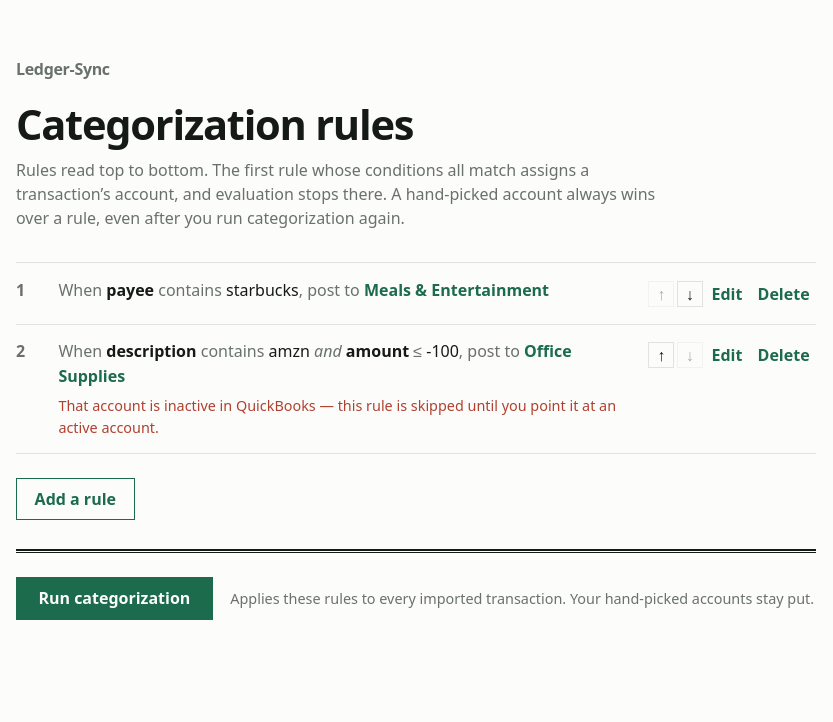
it: running categorization shows the reconciliation summary
expect the list is shown: met, box [16, 262, 816, 454]
Step 1. Click the button "Run categorization" → [114, 598], box [16, 577, 213, 620]
(page scrolled)
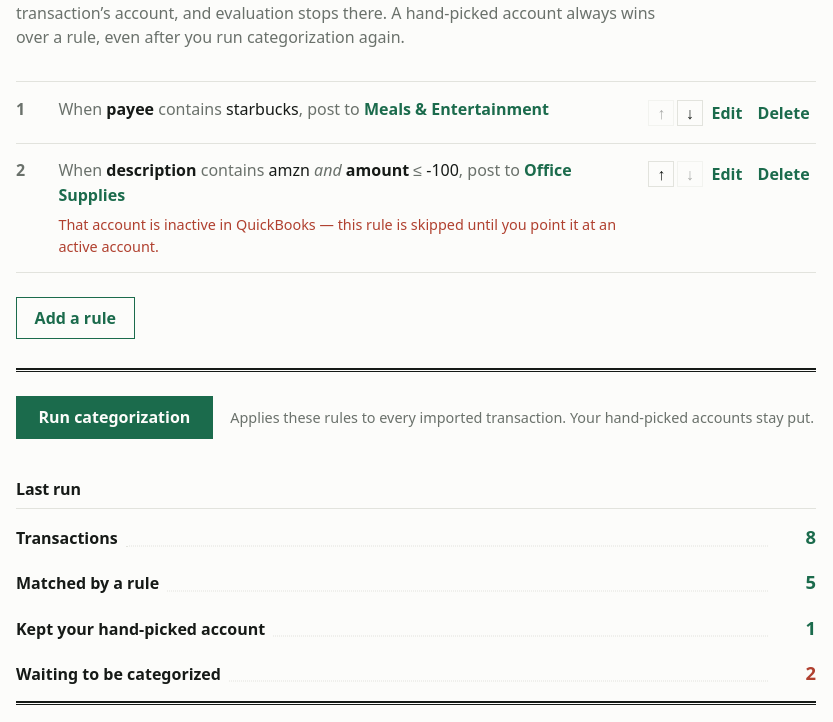
expect the text "Matched by a rule" is shown: met, box [16, 571, 159, 595]
expect the text "Waiting to be categorized" is shown: met, box [16, 662, 221, 686]
